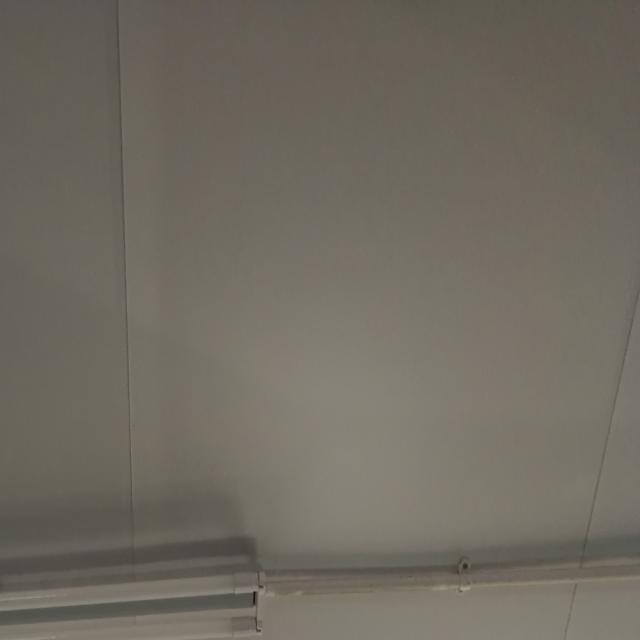fluorescent tube: (0, 548, 275, 640)
